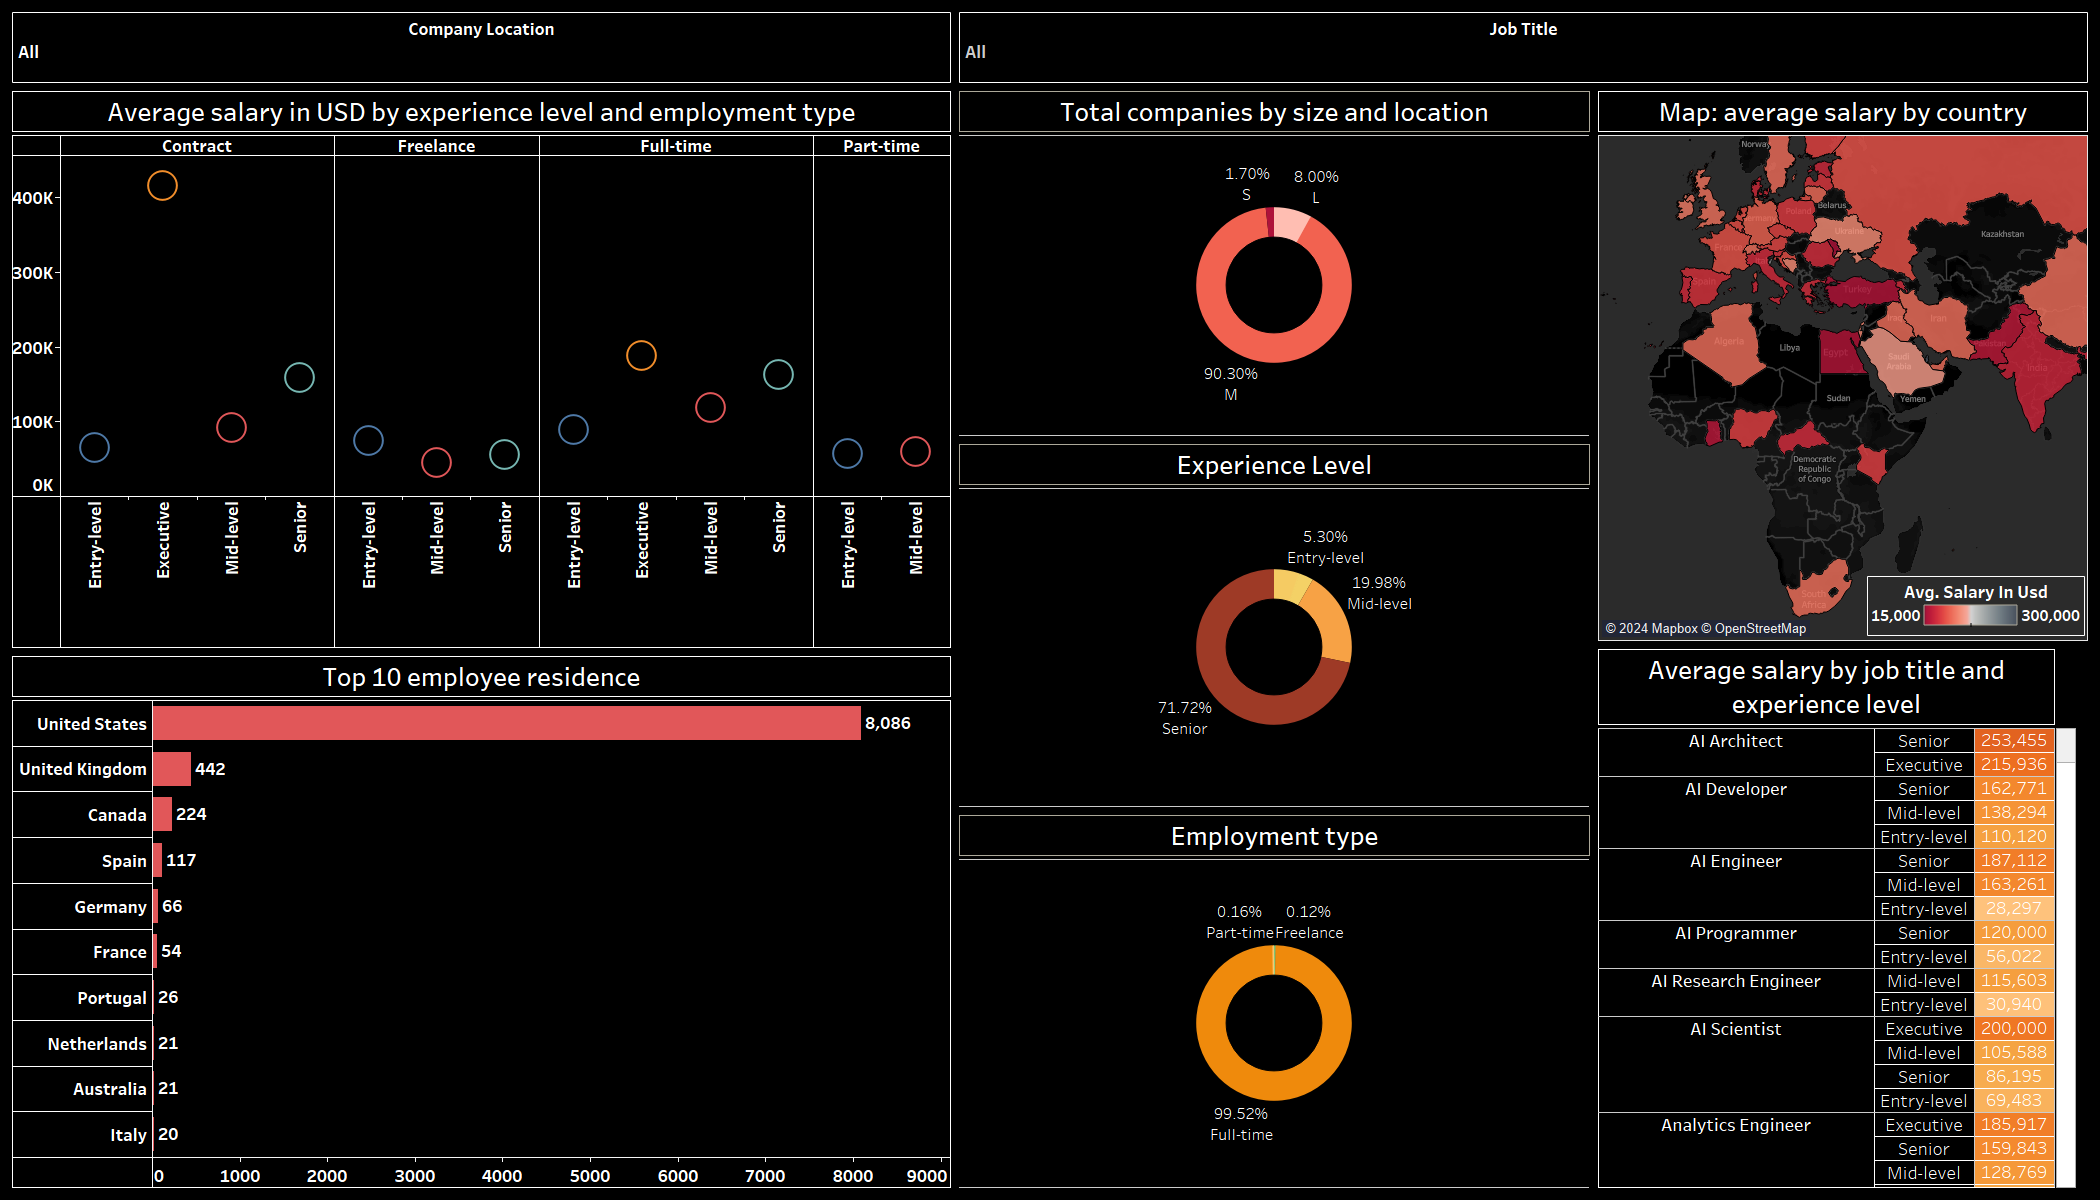

This screenshot's page, from the dashboard's own definition file:
{"tool":"tableau","page":{"name":"Dashboard 1","canvas":[2100,1200],"ordinal":0},"visuals":[{"type":"filter","title":"Total companies by size and location","param":"[federated.02lq75y0a4wtlw1943rqi08la6b3].[none:company_location:nk]","box":[8,8,947,79]},{"type":"filter","title":"Map: average salary by country","param":"[federated.02lq75y0a4wtlw1943rqi08la6b3].[none:job_title:nk]","box":[955,8,1137,79]},{"type":"worksheet","title":"Average salary in USD by experience level and employment type","mark":"Shape","rows":["salary_in_usd"],"cols":["employment_type","experience_level"],"box":[8,87,882,565]},{"type":"worksheet","title":"Total companies by size and location","mark":"Pie","rows":["Calculation_2428003193485787139","Calculation_2428003193485869061"],"box":[890,87,704,353]},{"type":"worksheet","title":"Map: average salary by country","mark":"Automatic","box":[1594,87,498,558]},{"type":"worksheet","title":"Experience level","mark":"Pie","rows":["Calculation_2428003193485787139","Calculation_2428003193485869061"],"box":[890,440,704,371]},{"type":"legend","title":"Map: average salary by country","param":"[federated.02lq75y0a4wtlw1943rqi08la6b3].[avg:salary_in_usd:qk]","box":[1867,576,218,60]},{"type":"worksheet","title":"Average salary by job title and experience level","mark":"Square","rows":["job_title","experience_level"],"box":[1594,645,498,547]},{"type":"worksheet","title":"Top 10 employee residence","mark":"Automatic","rows":["employee_residence"],"cols":["employee_residence"],"box":[8,652,882,540]},{"type":"worksheet","title":"Employment Type","mark":"Pie","rows":["Calculation_2428003193485787139","Calculation_2428003193485869061"],"box":[890,811,704,381]}]}

Visuals, with their boxes in screenshot pixels (x1, y1, x2, y2), scaled from the page's 2100x1200 canvas onto the 2100x1200 screenshot:
"Total companies by size and location" filter: rect(8, 8, 955, 87)
"Map: average salary by country" filter: rect(955, 8, 2092, 87)
"Average salary in USD by experience level and employment type" worksheet (Shape marks): rect(8, 87, 890, 652)
"Total companies by size and location" worksheet (Pie marks): rect(890, 87, 1594, 440)
"Map: average salary by country" worksheet: rect(1594, 87, 2092, 645)
"Experience level" worksheet (Pie marks): rect(890, 440, 1594, 811)
"Map: average salary by country" legend: rect(1867, 576, 2085, 636)
"Average salary by job title and experience level" worksheet (Square marks): rect(1594, 645, 2092, 1192)
"Top 10 employee residence" worksheet: rect(8, 652, 890, 1192)
"Employment Type" worksheet (Pie marks): rect(890, 811, 1594, 1192)
